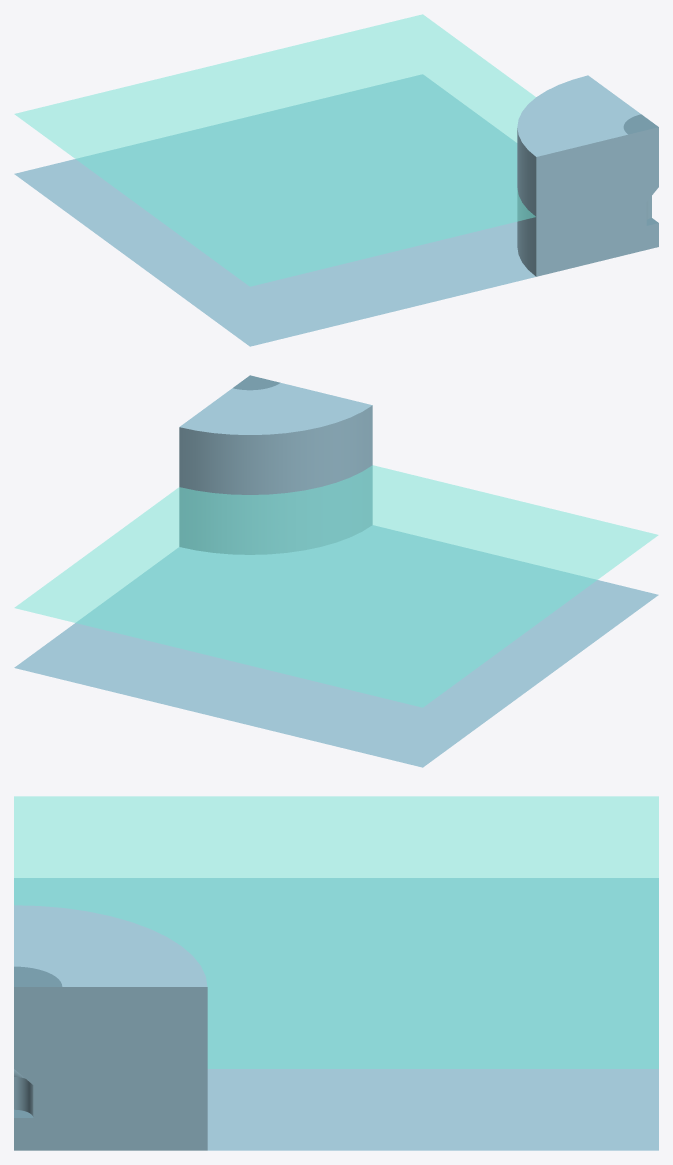
Rendered from fountainCornerInner.glb.
The picture shows the model from 3 angles, top to bottom: view 1: azimuth 30°, elevation 25°; view 2: azimuth 150°, elevation 25°; view 3: azimuth 270°, elevation 25°; orthographic projection. The views are drawn at different scales.
Visible parts, largest first — view 1: fountainCornerInner; view 2: fountainCornerInner; view 3: fountainCornerInner.
Part boxes in pixels (x1,y1,x2,y2): fountainCornerInner: (14, 14, 658, 346); fountainCornerInner: (14, 375, 658, 767); fountainCornerInner: (14, 796, 658, 1150).
Size of the model in its own units: 1 by 0.28 by 1.
